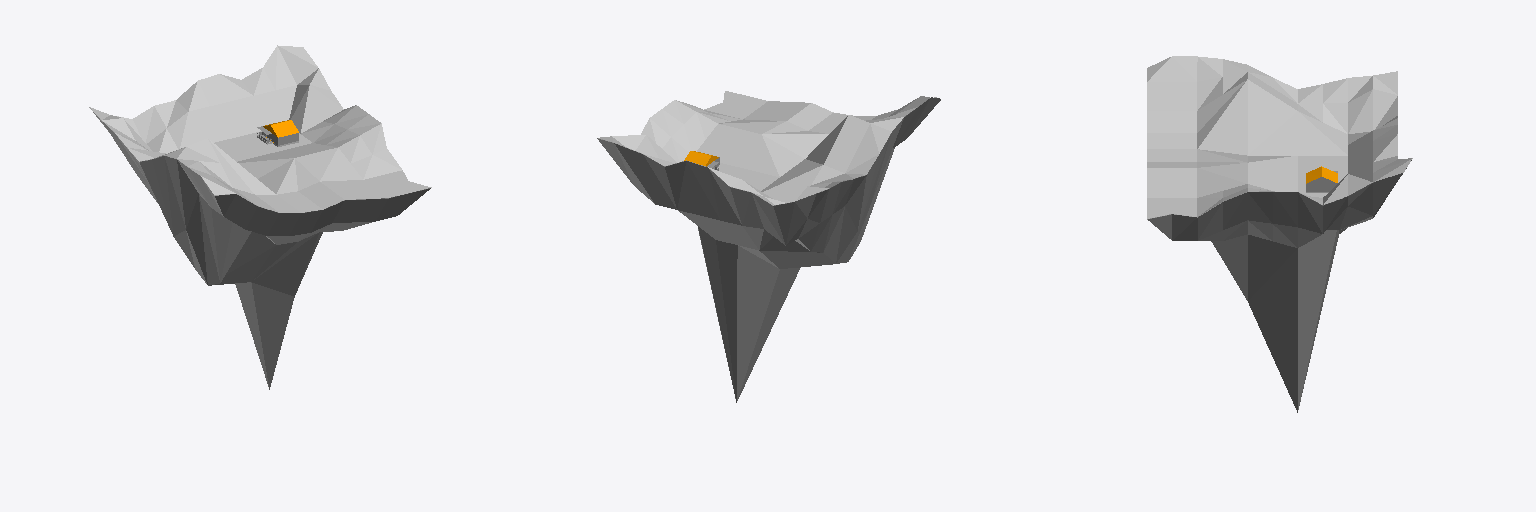
3 views of the same model, side by side, from view 1: azimuth 30°, elevation 25°; view 2: azimuth 150°, elevation 25°; view 3: azimuth 270°, elevation 25° (orthographic).
Visible parts, largest first — view 1: Plane.002_Plane.001, Plane.003, Door.002_Plane.007; view 2: Plane.003, Plane.002_Plane.001; view 3: Plane.002_Plane.001, Plane.003, Door.002_Plane.007.
Boxes of the visible parts, <box> form: Plane.002_Plane.001: <box>90,45,431,212</box>; Plane.003: <box>89,107,430,389</box>; Door.002_Plane.007: <box>257,120,298,145</box>; Plane.003: <box>597,97,940,402</box>; Plane.002_Plane.001: <box>599,91,936,205</box>; Plane.002_Plane.001: <box>1147,56,1412,218</box>; Plane.003: <box>1147,160,1411,412</box>; Door.002_Plane.007: <box>1306,166,1337,191</box>.
Bounding box in the file's own units: 126 × 161 × 133.
44 materials, 3 textured.